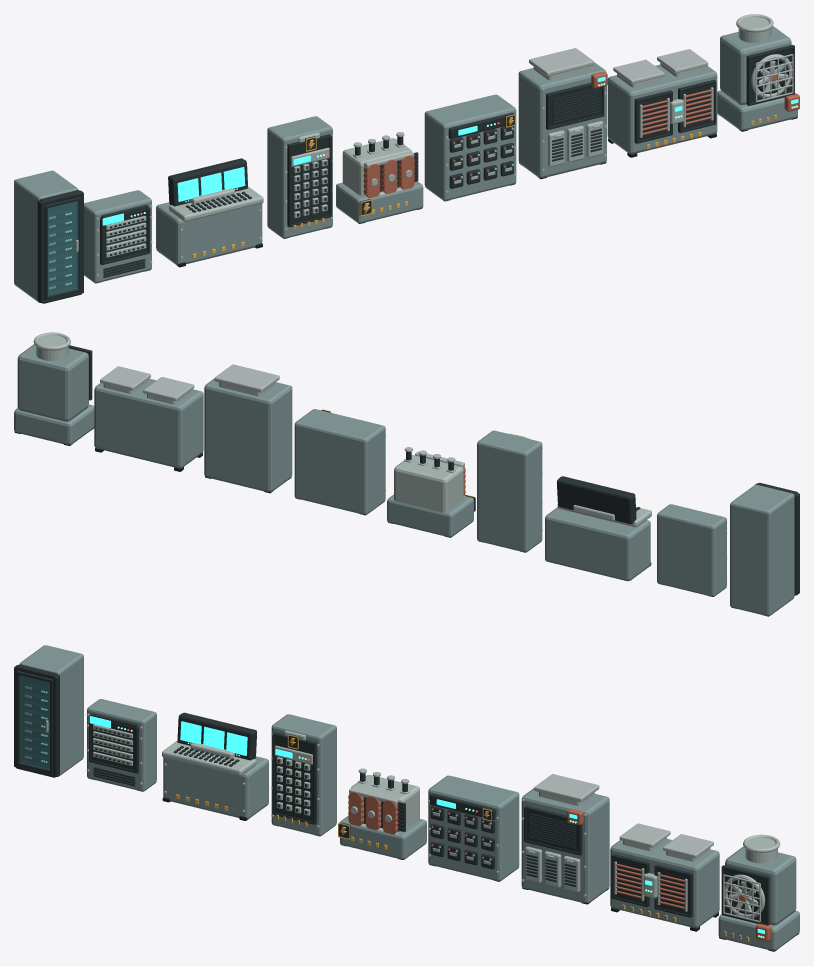
Rendered from submarine_postapo_technical_blocks_pack.glb.
3 renders of one model, top to bottom at view 1: azimuth 30°, elevation 25°; view 2: azimuth 150°, elevation 25°; view 3: azimuth 330°, elevation 25°, orthographic.
Visible parts, largest first — view 1: BATTERY_Main_Cabinet, AIR_HANDLER_Housing, CONSOLE_Base, EXCHANGER_Main_Housing, SERVER_Main_Cabinet, POWER_Main_Cabinet, NETWORK_Cabinet, SERVER_Door_Panel, EXTRACTOR_Armored_Frame, TRANSFORMER_Base, POWER_Breaker_Bay_Panel, EXTRACTOR_Base (+15 smaller); view 2: AIR_HANDLER_Housing, BATTERY_Main_Cabinet, SERVER_Main_Cabinet, POWER_Main_Cabinet, EXCHANGER_Main_Housing, CONSOLE_Base, NETWORK_Cabinet, EXTRACTOR_Armored_Frame, TRANSFORMER_Core_Housing, CONSOLE_Screen_Back, TRANSFORMER_Base, EXTRACTOR_Base (+5 smaller); view 3: BATTERY_Main_Cabinet, AIR_HANDLER_Housing, CONSOLE_Base, EXCHANGER_Main_Housing, SERVER_Main_Cabinet, POWER_Main_Cabinet, NETWORK_Cabinet, SERVER_Door_Panel, EXTRACTOR_Armored_Frame, TRANSFORMER_Base, EXTRACTOR_Base, POWER_Breaker_Bay_Panel (+15 smaller).
Part boxes in pixels (left/top/right/bottom): BATTERY_Main_Cabinet: left=424, top=94, right=516, bottom=200; AIR_HANDLER_Housing: left=518, top=62, right=606, bottom=177; CONSOLE_Base: left=156, top=202, right=262, bottom=265; EXCHANGER_Main_Housing: left=607, top=64, right=717, bottom=154; SERVER_Main_Cabinet: left=14, top=170, right=78, bottom=302; POWER_Main_Cabinet: left=267, top=116, right=332, bottom=238; NETWORK_Cabinet: left=84, top=190, right=151, bottom=283; SERVER_Door_Panel: left=48, top=201, right=78, bottom=296; EXTRACTOR_Armored_Frame: left=720, top=26, right=791, bottom=104; TRANSFORMER_Base: left=336, top=181, right=423, bottom=223; POWER_Breaker_Bay_Panel: left=291, top=138, right=329, bottom=224; EXTRACTOR_Base: left=717, top=90, right=797, bottom=130; AIR_HANDLER_Housing: left=204, top=378, right=292, bottom=491; BATTERY_Main_Cabinet: left=294, top=409, right=385, bottom=514; SERVER_Main_Cabinet: left=730, top=484, right=794, bottom=616; POWER_Main_Cabinet: left=477, top=430, right=542, bottom=552; EXCHANGER_Main_Housing: left=94, top=378, right=203, bottom=468; CONSOLE_Base: left=545, top=507, right=650, bottom=581; NETWORK_Cabinet: left=657, top=504, right=726, bottom=596; EXTRACTOR_Armored_Frame: left=17, top=344, right=88, bottom=421; TRANSFORMER_Core_Housing: left=394, top=455, right=463, bottom=512; CONSOLE_Screen_Back: left=557, top=476, right=636, bottom=524; TRANSFORMER_Base: left=387, top=494, right=473, bottom=537; EXTRACTOR_Base: left=14, top=404, right=94, bottom=444; BATTERY_Main_Cabinet: left=428, top=775, right=519, bottom=881; AIR_HANDLER_Housing: left=521, top=788, right=609, bottom=903; CONSOLE_Base: left=163, top=756, right=268, bottom=819; EXCHANGER_Main_Housing: left=610, top=839, right=719, bottom=928; SERVER_Main_Cabinet: left=20, top=645, right=83, bottom=776; POWER_Main_Cabinet: left=271, top=714, right=336, bottom=835; NETWORK_Cabinet: left=87, top=699, right=156, bottom=791; SERVER_Door_Panel: left=19, top=675, right=49, bottom=770; EXTRACTOR_Armored_Frame: left=725, top=846, right=796, bottom=925; TRANSFORMER_Base: left=340, top=815, right=426, bottom=859; EXTRACTOR_Base: left=718, top=910, right=799, bottom=950; POWER_Breaker_Bay_Panel: left=275, top=736, right=312, bottom=821.
Bounding box in the file's own units: 15.04 × 2 × 1.08.
